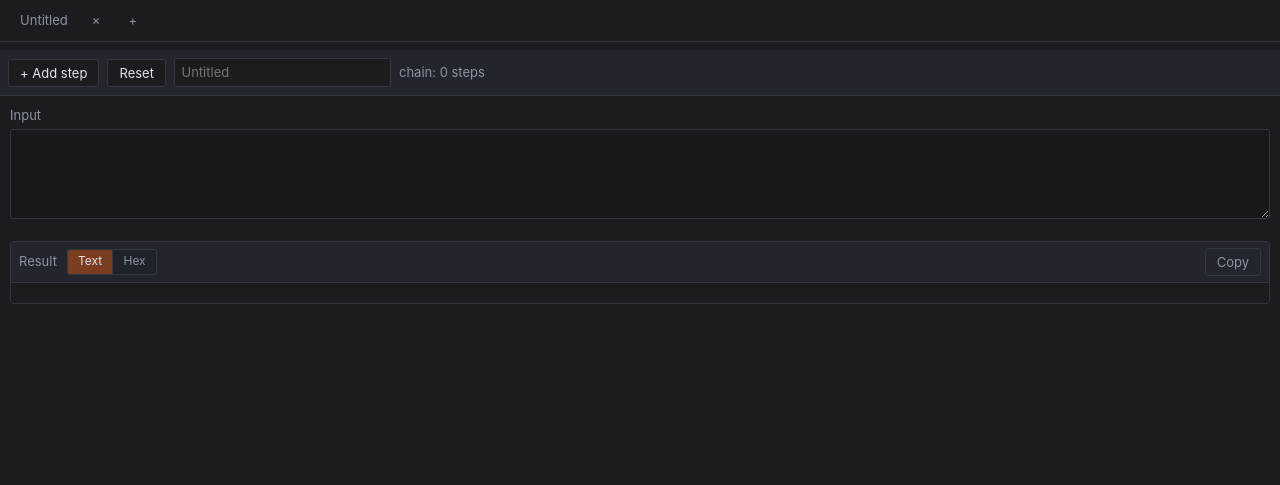
it: decoder chain › surfaces a decode failure
This screenshot has width=1280, height=485.
Click the button "+ Add step". click: (54, 73)
box: top-left (8, 59), bottom-right (99, 87)
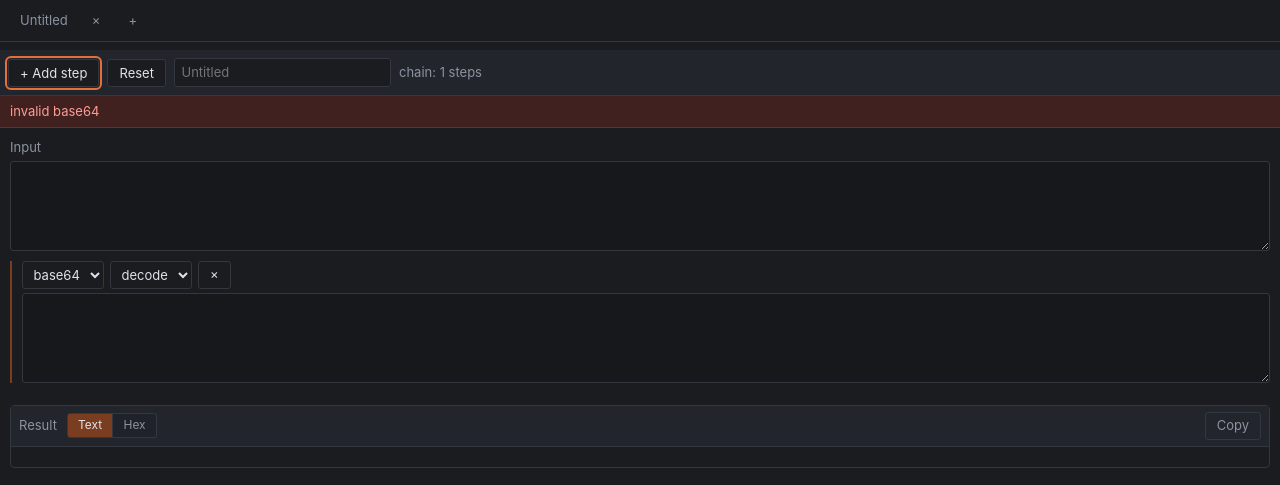
Result: the text "invalid base64" is shown at top-left (0, 96), bottom-right (1279, 128)
